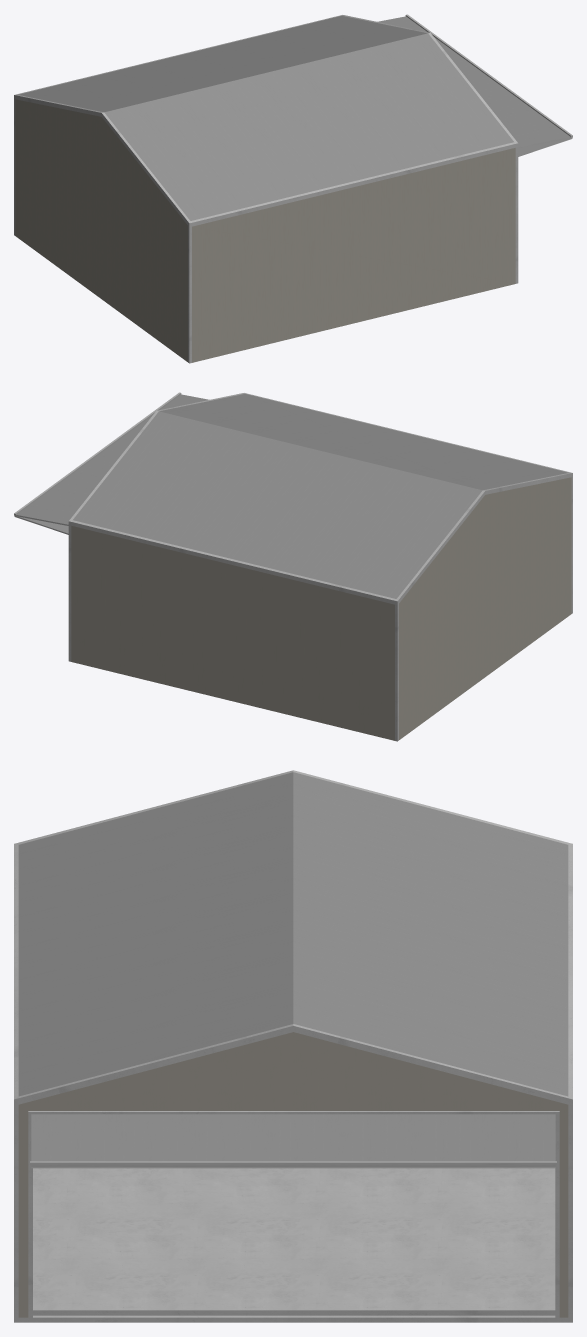
File: gen_open_hangar08-12x13x5-cbj_LOD01.gltf
3 renders of one model, top to bottom at view 1: azimuth 30°, elevation 25°; view 2: azimuth 150°, elevation 25°; view 3: azimuth 270°, elevation 25°, orthographic. The views are drawn at different scales.
Visible parts, largest first — view 1: Cube.015; view 2: Cube.015; view 3: Cube.015.
Boxes of the visible parts, left/top/right/bottom form: Cube.015: left=14, top=14, right=572, bottom=363; Cube.015: left=14, top=392, right=572, bottom=741; Cube.015: left=14, top=770, right=572, bottom=1322.
Size of the model in its own units: 15.6 by 7.15 by 12.2.
